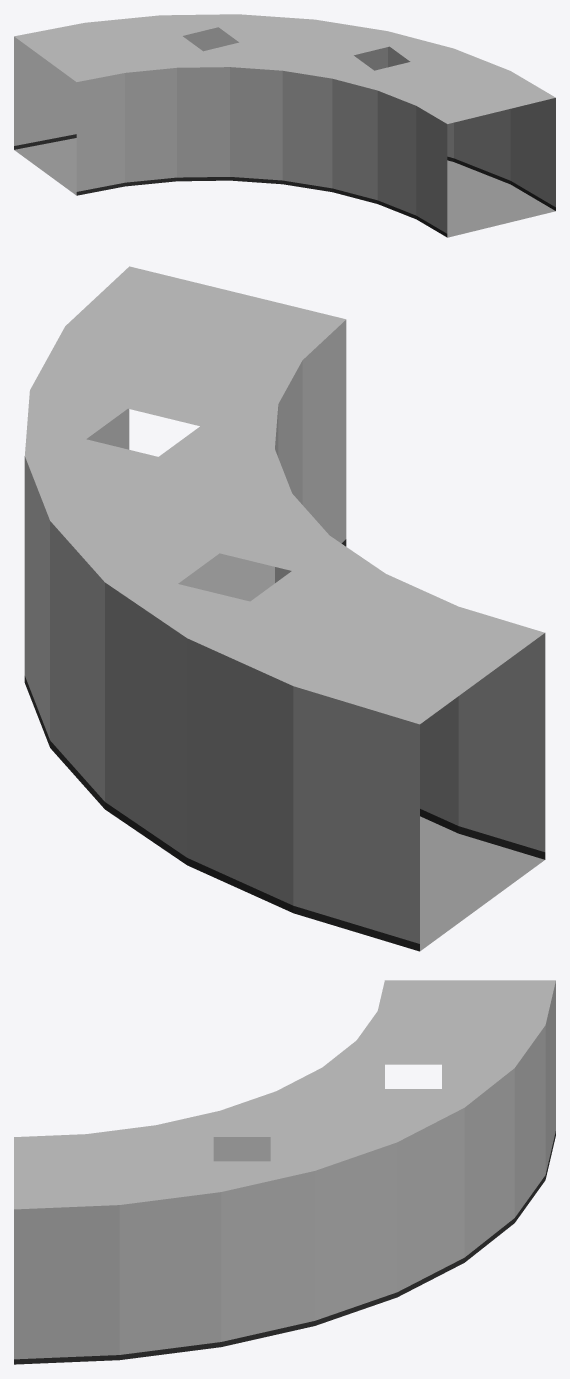
File: CurvedCorridoor.fbx
3 renders of one model, top to bottom at view 1: azimuth 30°, elevation 25°; view 2: azimuth 150°, elevation 25°; view 3: azimuth 270°, elevation 25°, orthographic. The views are drawn at different scales.
Visible parts, largest first — view 1: Plane.001; view 2: Plane.001; view 3: Plane.001.
Part boxes in pixels (x1,y1,x2,y2): Plane.001: [14, 14, 555, 237]; Plane.001: [24, 266, 545, 951]; Plane.001: [14, 980, 555, 1364].
Bounding box in the file's own units: 950 × 300 × 950.
